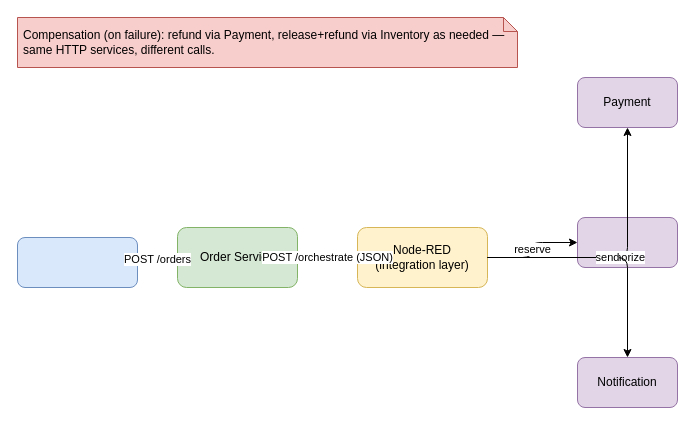
The diagram is 695 pixels wide and 425 high, and some of its shapes have lost their labels. Here are the shapes that lost their labels. From the top down, the box of each, then its label:
(16, 236, 138, 288): Client
(576, 216, 678, 268): Inventory
